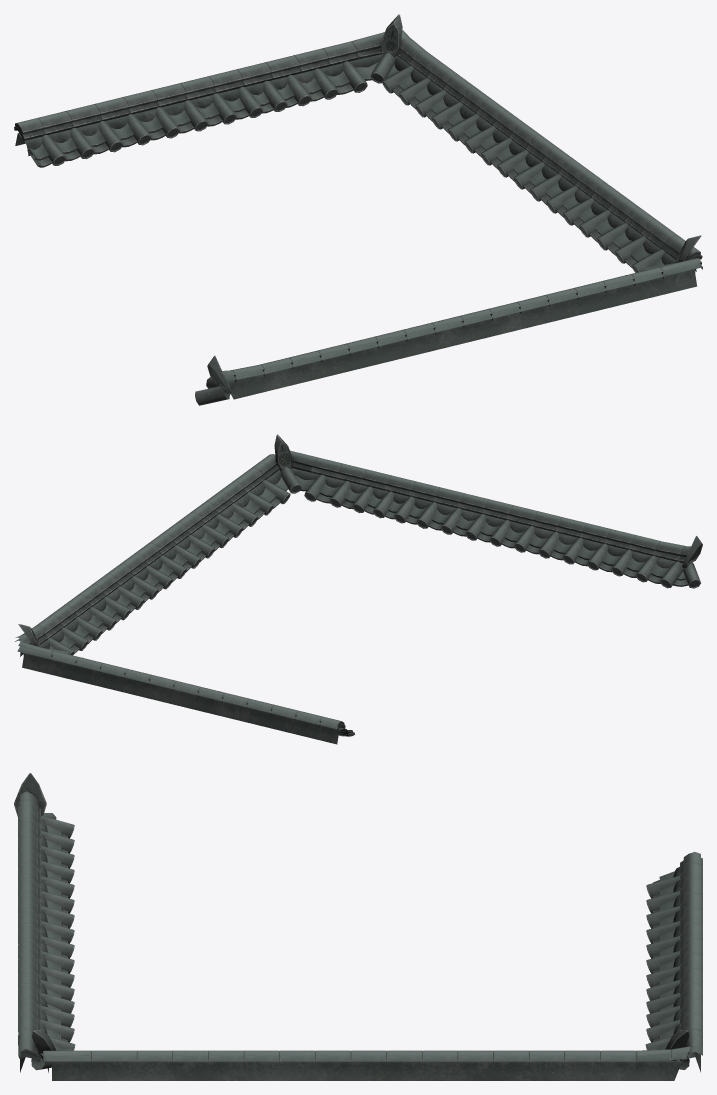
The model's file is TraditionalKoreanHouse_StoneWallRoof.fbx.
3 views of the same model, one above another, from view 1: azimuth 30°, elevation 25°; view 2: azimuth 150°, elevation 25°; view 3: azimuth 270°, elevation 25° (orthographic). The views are drawn at different scales.
Parts seen in each view (by area): view 1: TraditionalKoreanHouse_StoneWallRoof; view 2: TraditionalKoreanHouse_StoneWallRoof; view 3: TraditionalKoreanHouse_StoneWallRoof.
Part boxes in pixels (<box>): TraditionalKoreanHouse_StoneWallRoof: <box>14,14,702,405</box>; TraditionalKoreanHouse_StoneWallRoof: <box>15,434,702,744</box>; TraditionalKoreanHouse_StoneWallRoof: <box>14,773,702,1080</box>.
Bounding box in the file's own units: 1273 × 131 × 1386.
